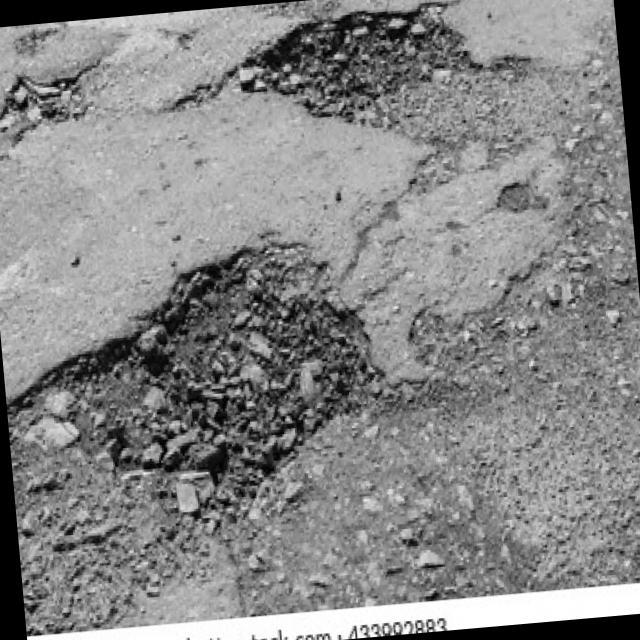Pothole: (35, 224, 381, 544), (223, 0, 480, 165), (0, 68, 95, 144)
